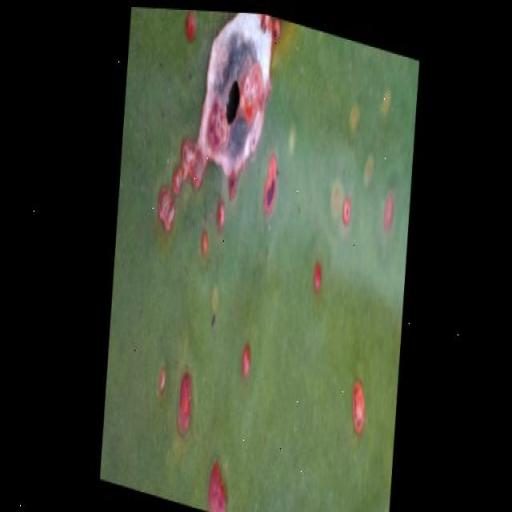stemcanker: (101, 351, 133, 385), (186, 26, 212, 66), (263, 316, 294, 348), (168, 175, 198, 201), (158, 55, 181, 88), (406, 378, 428, 408), (211, 73, 236, 98), (248, 128, 272, 154), (308, 418, 334, 442), (232, 336, 253, 362), (148, 0, 171, 23)
